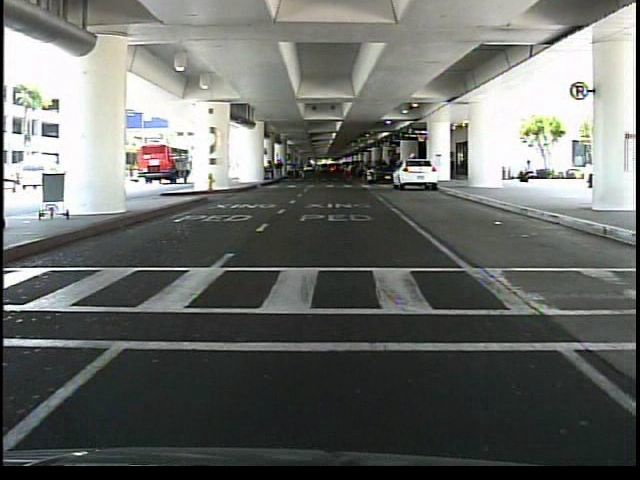person: (512, 157, 538, 190)
